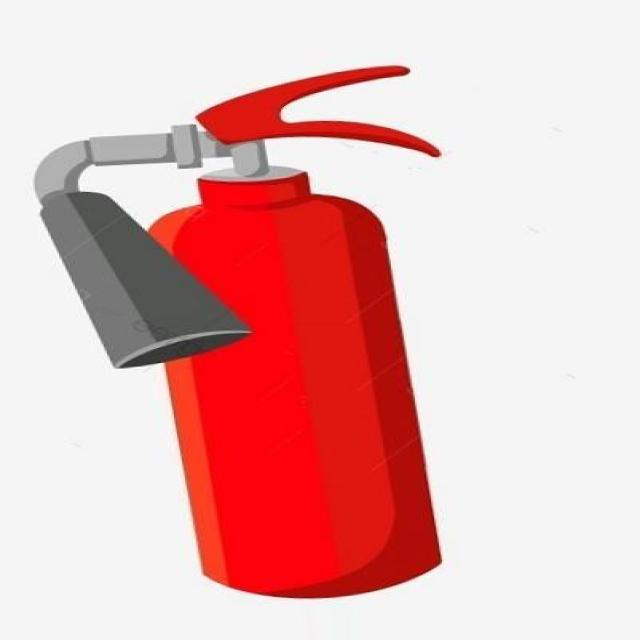fire_extinguisher: (23, 60, 454, 600)
